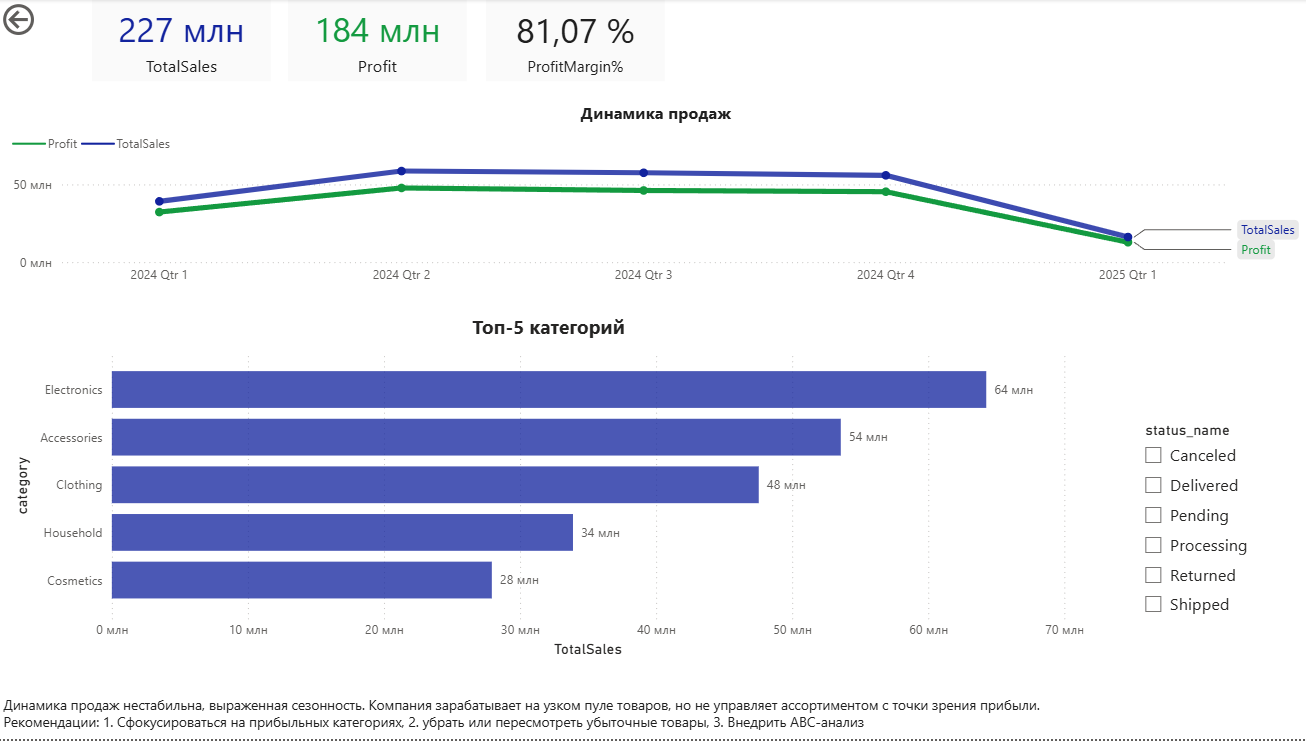

Layout of this report page (visuals, bound fields, positions):
{"tool":"powerbi","page":{"name":"Продажи и прибыль","canvas":[1280,720],"ordinal":0},"visuals":[{"type":"card","fields":{"Values":["Student public_sales.TotalSales"]},"box":[91.4,0,174.1,79.8],"z":0},{"type":"card","fields":{"Values":["Student public_sales.Profit"]},"box":[282.1,0,174.1,79.8],"z":1000},{"type":"card","fields":{"Values":["Student public_sales.ProfitMargin%"]},"box":[474.7,0,174.1,79.8],"z":2000},{"type":"lineChart","title":" Динамика продаж","fields":{"Category":["Student public_sales.sale_date.Изменение.Иерархия дат.Год","Student public_sales.sale_date.Изменение.Иерархия дат.Квартал"],"Y":["Student public_sales.Profit","Student public_sales.TotalSales"]},"box":[9.7,100.2,1260.5,185.8],"z":4000},{"type":"textbox","box":[0,672.1,1025.2,47.7],"z":5000},{"type":"barChart","title":"Топ-5 категорий","fields":{"Y":["Student public_sales.TotalSales"],"Category":["Student nomenclature_reference.category"]},"box":[9.7,305.4,1051.4,339.5],"z":6000},{"type":"actionButton","box":[0,0,100,40],"z":8000},{"type":"slicer","fields":{"Values":["Student public_order_status.status_name"]},"box":[1103,405.6,167.3,208.1],"z":9000}]}

Visuals, with their boxes in screenshot pixels (x1, y1, x2, y2), scaled from the page's 1280x720 canvas onto the 1306x742 screenshot:
card - Student public_sales.TotalSales: 93 0 271 82
card - Student public_sales.Profit: 288 0 465 82
card - Student public_sales.ProfitMargin%: 484 0 662 82
" Динамика продаж" lineChart: 10 103 1296 295
textbox: 0 693 1046 741
"Топ-5 категорий" barChart: 10 315 1083 665
actionButton: 0 0 102 41
slicer - Student public_order_status.status_name: 1125 418 1296 632
